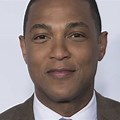person: (17, 1, 108, 103)
